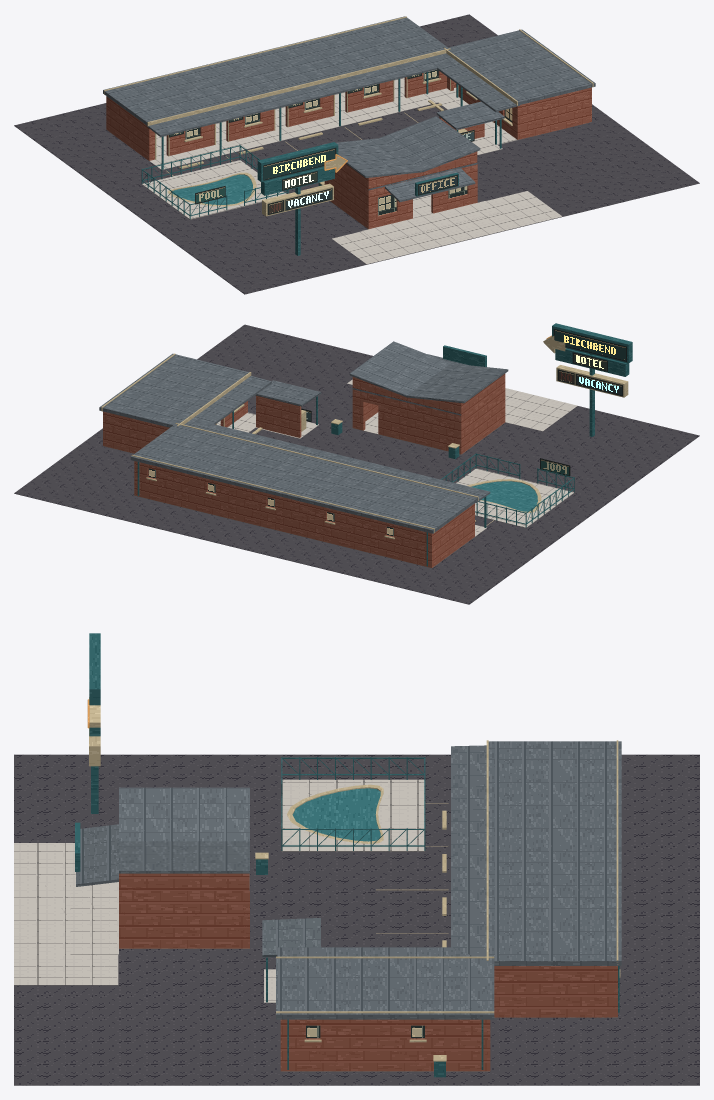
Rendered from birchbend-1955.glb.
3 views of the same model, one above another, from view 1: azimuth 30°, elevation 25°; view 2: azimuth 150°, elevation 25°; view 3: azimuth 270°, elevation 25° (orthographic). The views are drawn at different scales.
Parts seen in each view (by area): view 1: shell, lot, pool, roadside_sign, interior, sign_name_street, sign_vacancy_street; view 2: shell, lot, pool, roadside_sign, sign_name_exit, interior, sign_vacancy_exit; view 3: lot, shell, pool, roadside_sign.
Part boxes in pixels (bbox=[...]): shell: bbox=[103, 16, 595, 229]; lot: bbox=[14, 14, 699, 294]; pool: bbox=[141, 145, 288, 219]; roadside_sign: bbox=[257, 142, 347, 255]; interior: bbox=[106, 77, 591, 228]; sign_name_street: bbox=[263, 147, 336, 180]; sign_vacancy_street: bbox=[285, 188, 332, 210]; shell: bbox=[99, 341, 508, 567]; lot: bbox=[14, 324, 699, 604]; pool: bbox=[441, 453, 574, 527]; roadside_sign: bbox=[543, 323, 632, 436]; sign_name_exit: bbox=[553, 329, 626, 361]; interior: bbox=[103, 412, 504, 568]; sign_vacancy_exit: bbox=[575, 374, 622, 396]; lot: bbox=[14, 754, 699, 1085]; shell: bbox=[75, 740, 621, 1071]; pool: bbox=[281, 757, 425, 851]; roadside_sign: bbox=[87, 633, 100, 813].
Size of what is drawn, in the model's own units: 35.8 by 7.69 by 31.4.
12 materials, 12 textured.
